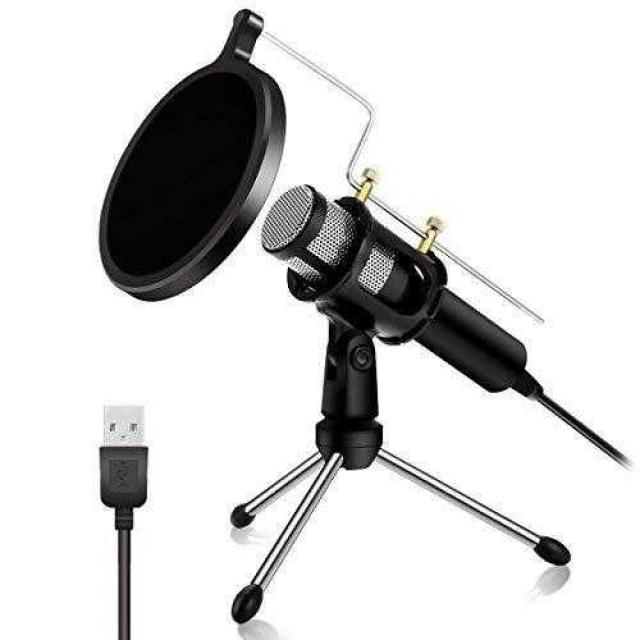microphone: (269, 188, 567, 402)
